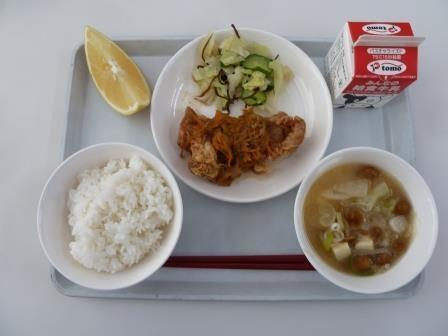Citrus: (74, 21, 148, 121)
Meat: (179, 104, 306, 191)
Milk: (326, 14, 427, 109)
Rice: (48, 140, 170, 282)
Salad: (187, 30, 286, 110)
Soups: (300, 152, 437, 286)
